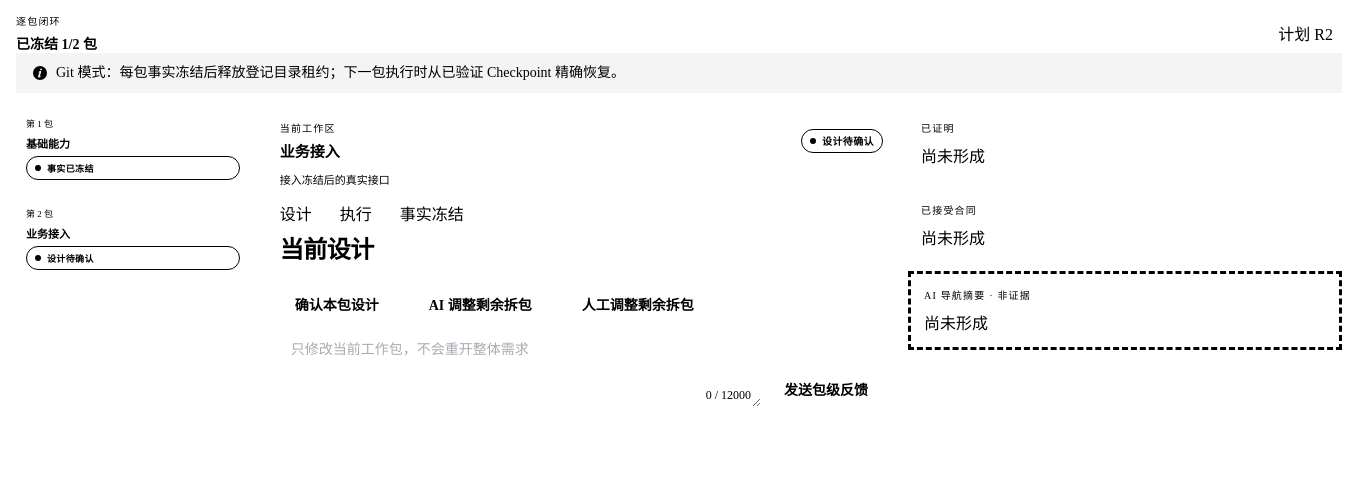
RollingPackageWorkbench › refreshes the workbench after a concurrent replan conflict
Step 1. Click the button "AI 调整剩余拆包" → (480, 306), box [414,290,547,322]
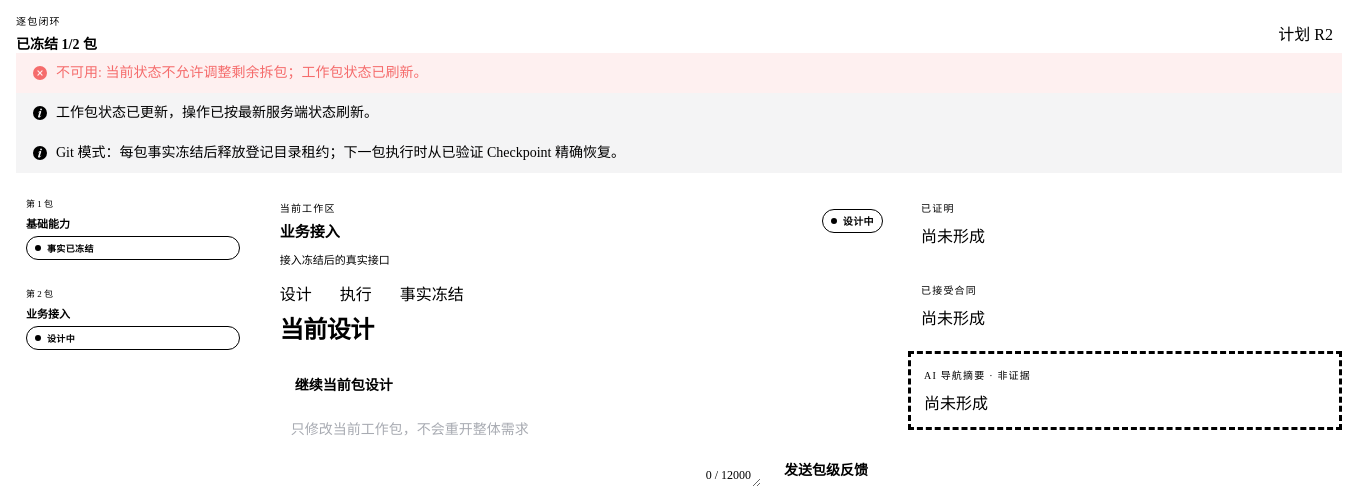
Result: the text "工作包状态已刷新" is shown at [56,65,427,80]
Result: the text "AI 调整剩余拆包" is gone
